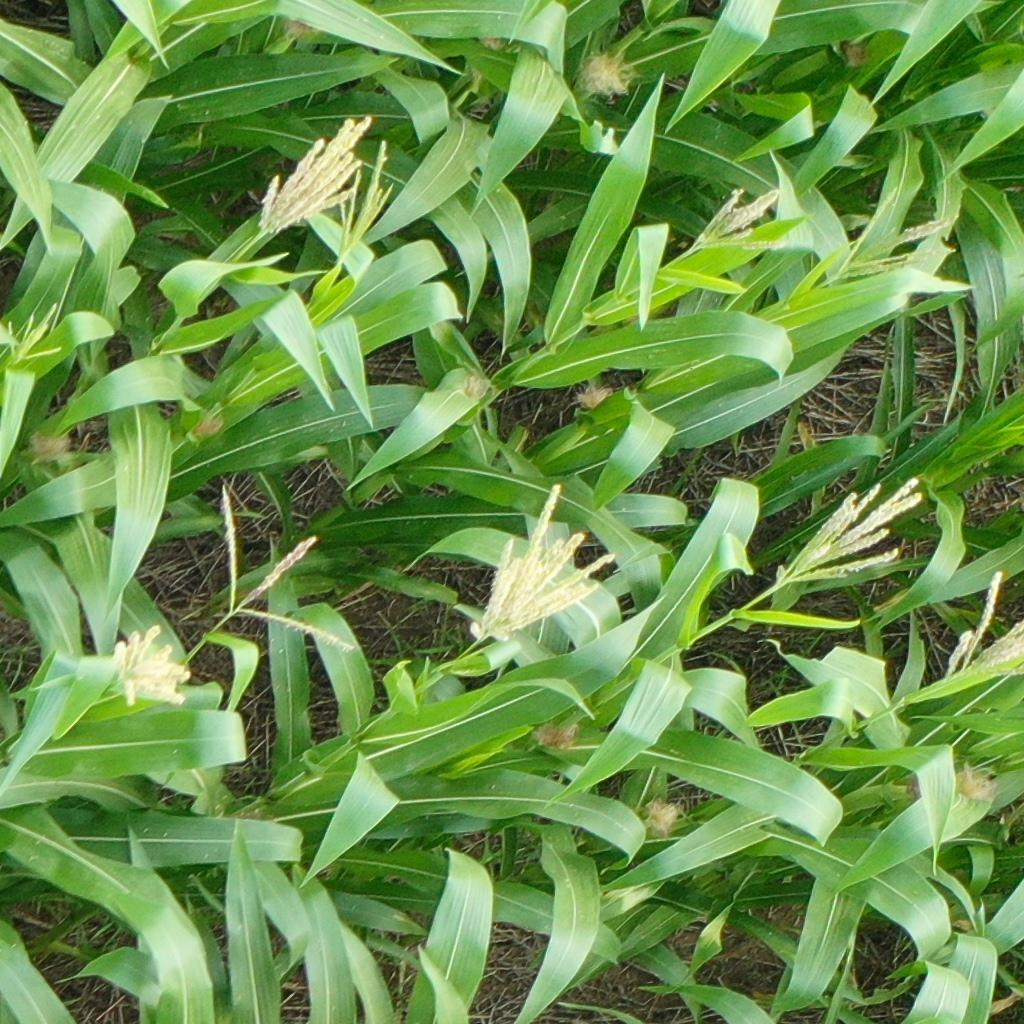Tassel: (216, 482, 360, 651), (473, 483, 613, 642), (779, 477, 924, 583), (256, 114, 371, 235), (832, 185, 961, 282), (944, 569, 1024, 679), (109, 622, 192, 708), (340, 140, 392, 264), (687, 190, 781, 255), (7, 301, 65, 366)
